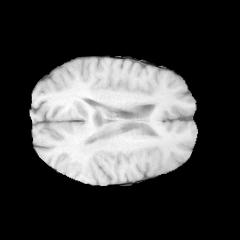glioma: (70, 99, 116, 156)
